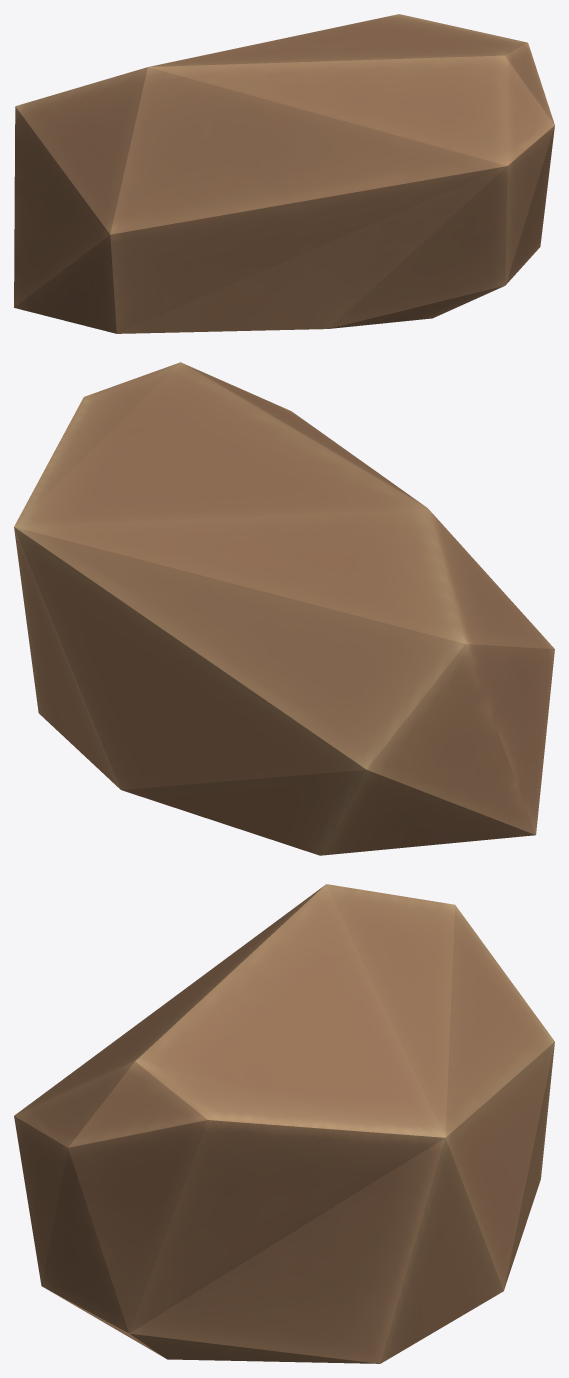
Rendered from Rock_12.fbx.
3 views of the same model, one above another, from view 1: azimuth 30°, elevation 25°; view 2: azimuth 150°, elevation 25°; view 3: azimuth 270°, elevation 25° (orthographic). The views are drawn at different scales.
Visible parts, largest first — view 1: Rock_12; view 2: Rock_12; view 3: Rock_12.
Part boxes in pixels (x1,y1,x2,y2): Rock_12: (14, 14, 554, 333); Rock_12: (14, 362, 554, 855); Rock_12: (14, 884, 554, 1363).
Bounding box in the file's own units: 32.81 × 27.14 × 16.14.
1 material, 1 textured.
